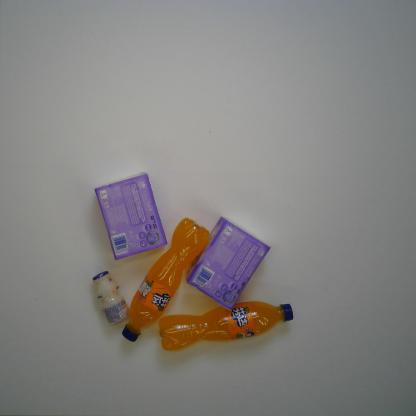Drink: (121, 217, 211, 342), (158, 300, 294, 352)
Milk: (92, 270, 130, 325)
Tissue: (184, 216, 272, 311), (93, 170, 168, 261)
